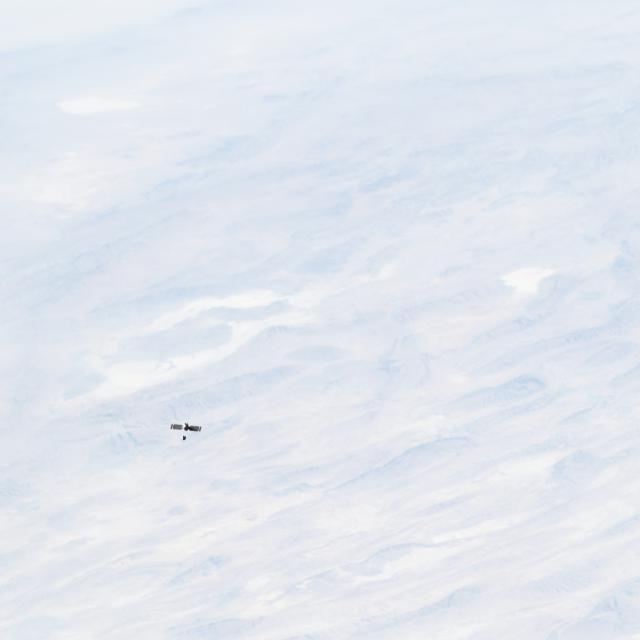satellite: (157, 415, 204, 449)
